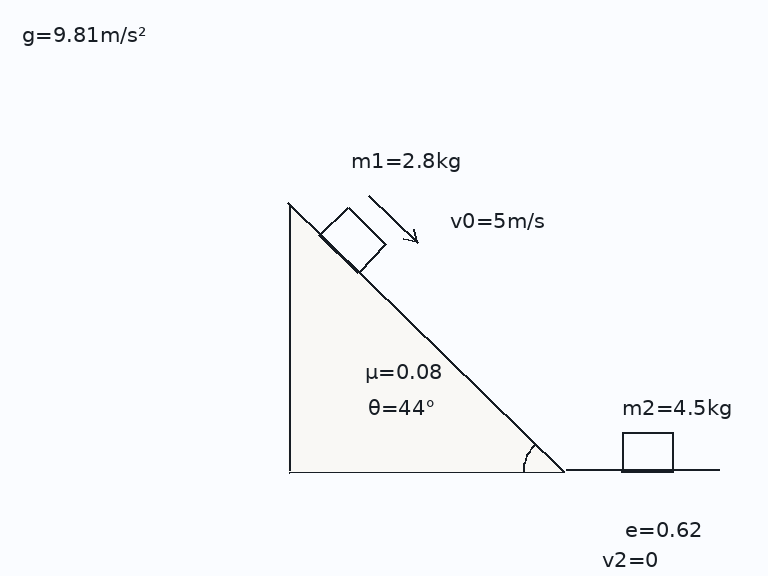block: (318, 205, 387, 274), (619, 432, 675, 473)
ramp: (286, 203, 566, 473)
